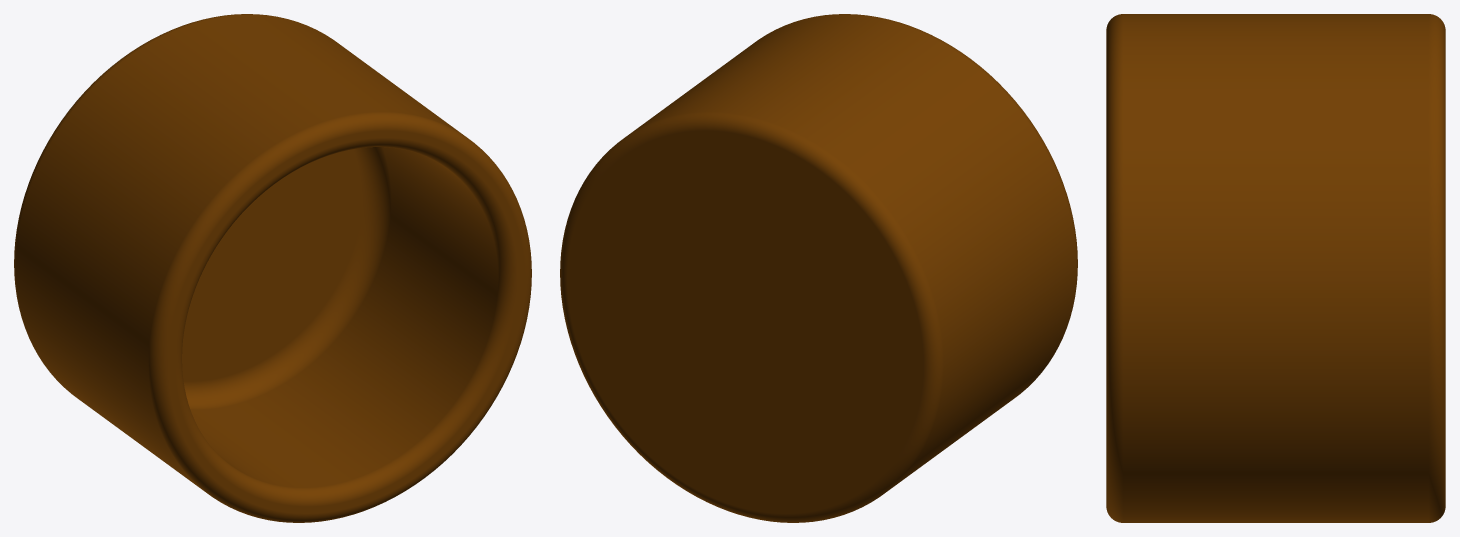
The model's file is CUP.obj.
3 renders of one model, left to right at view 1: azimuth 30°, elevation 25°; view 2: azimuth 150°, elevation 25°; view 3: azimuth 270°, elevation 25°, orthographic. The views are drawn at different scales.
Parts seen in each view (by area): view 1: mesh2, mesh6, mesh8, mesh3, mesh5, mesh7, mesh4, mesh1; view 2: mesh0, mesh2, mesh1, mesh3; view 3: mesh2, mesh1, mesh3.
Part boxes in pixels (box(x1,y1,x2,y2)): mesh2: box(16, 15, 462, 489); mesh6: box(190, 147, 497, 487); mesh8: box(182, 149, 361, 381); mesh3: box(148, 111, 531, 522); mesh5: box(174, 137, 518, 506); mesh7: box(183, 147, 391, 409); mesh4: box(168, 131, 524, 513); mesh1: box(14, 14, 317, 379); mesh0: box(567, 131, 923, 513); mesh2: box(629, 15, 1075, 489); mesh1: box(560, 111, 943, 522); mesh3: box(774, 14, 1077, 379); mesh2: box(1123, 14, 1428, 522); mesh1: box(1428, 14, 1445, 522); mesh3: box(1106, 14, 1123, 522).
Bounding box in the file's own units: 0.3 × 0.3 × 0.2.
